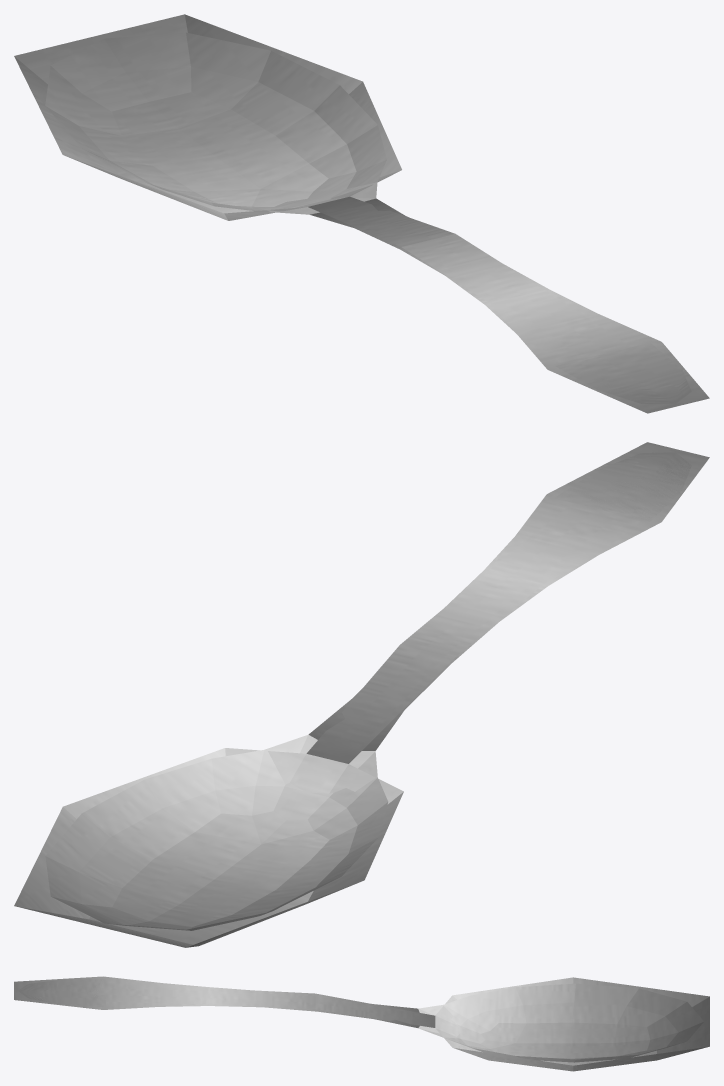
Rendered from sendok.fbx.
3 views of the same model, one above another, from view 1: azimuth 30°, elevation 25°; view 2: azimuth 150°, elevation 25°; view 3: azimuth 270°, elevation 25° (orthographic). The views are drawn at different scales.
Visible parts, largest first — view 1: Plane, Plane.001; view 2: Plane, Plane.001; view 3: Plane, Plane.001.
Part boxes in pixels (<box>): Plane: <box>45,32,691,403</box>; Plane.001: <box>14,14,709,413</box>; Plane: <box>45,452,691,930</box>; Plane.001: <box>14,442,709,947</box>; Plane: <box>18,979,703,1062</box>; Plane.001: <box>14,976,709,1071</box>.
Size of the model in its own units: 235 by 66.96 by 782.
Materials: 1 (1 with a texture image).
